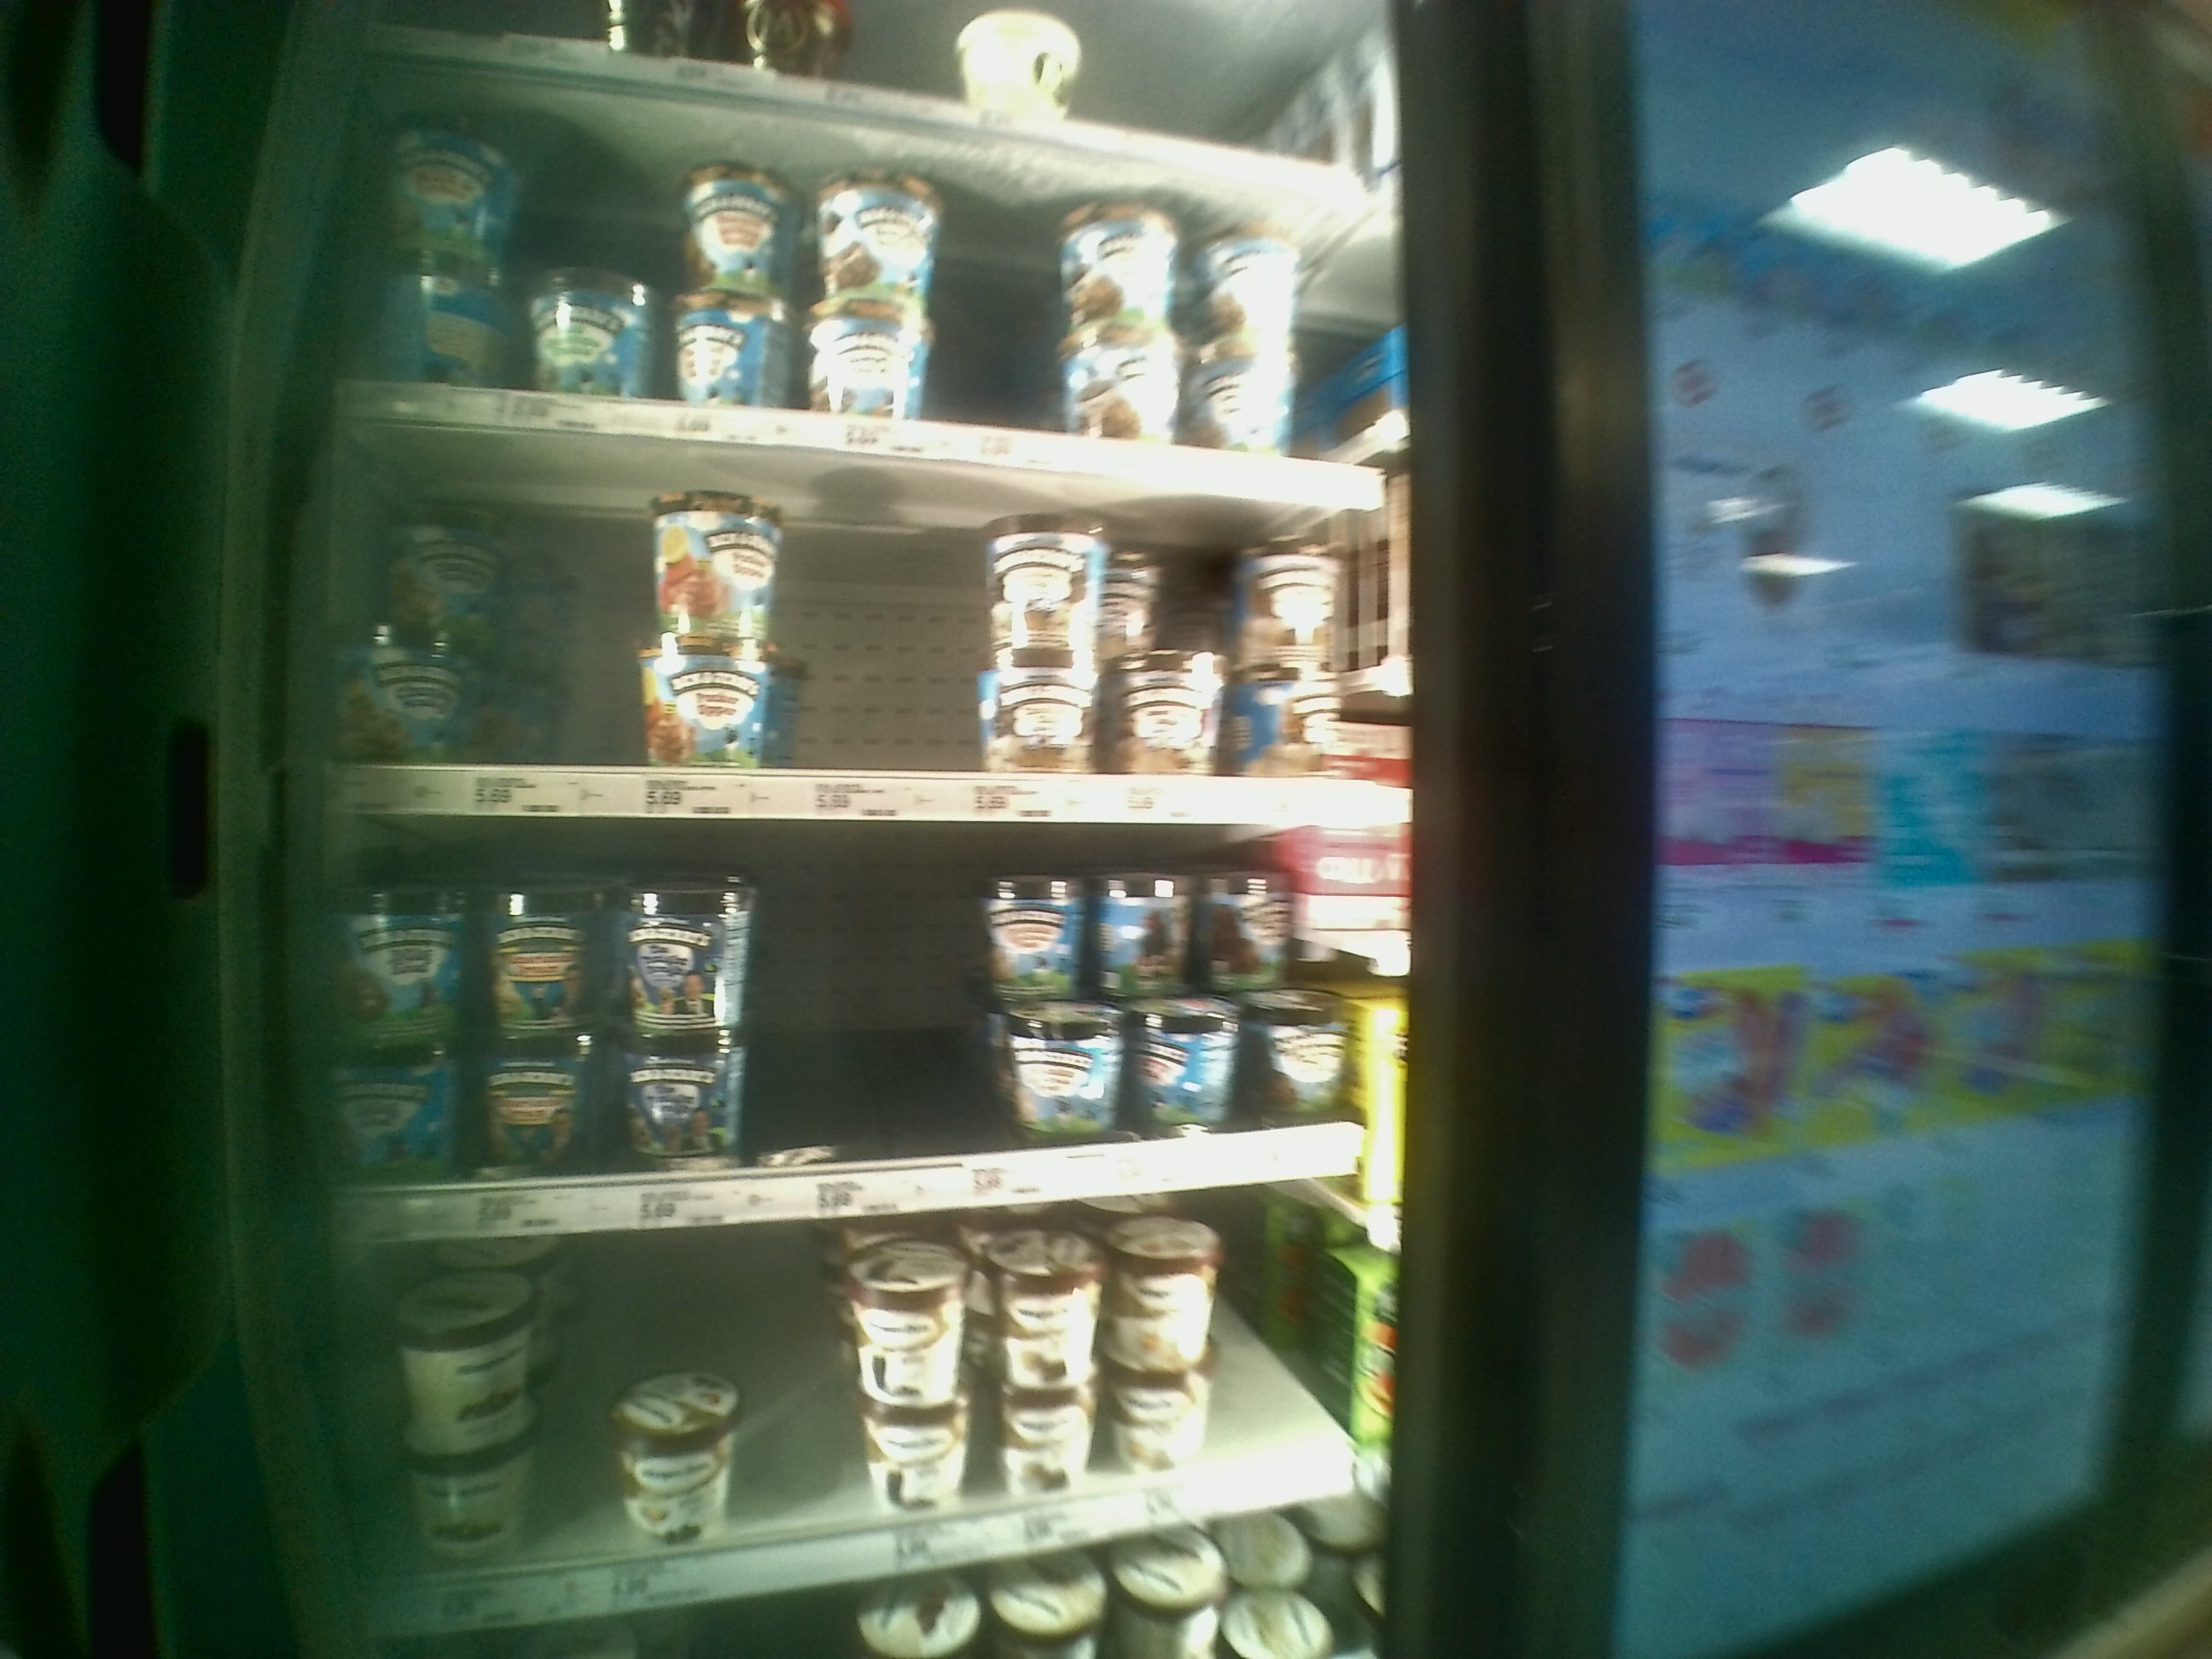shelf: (320, 415, 1406, 814), (347, 809, 1406, 1213)
